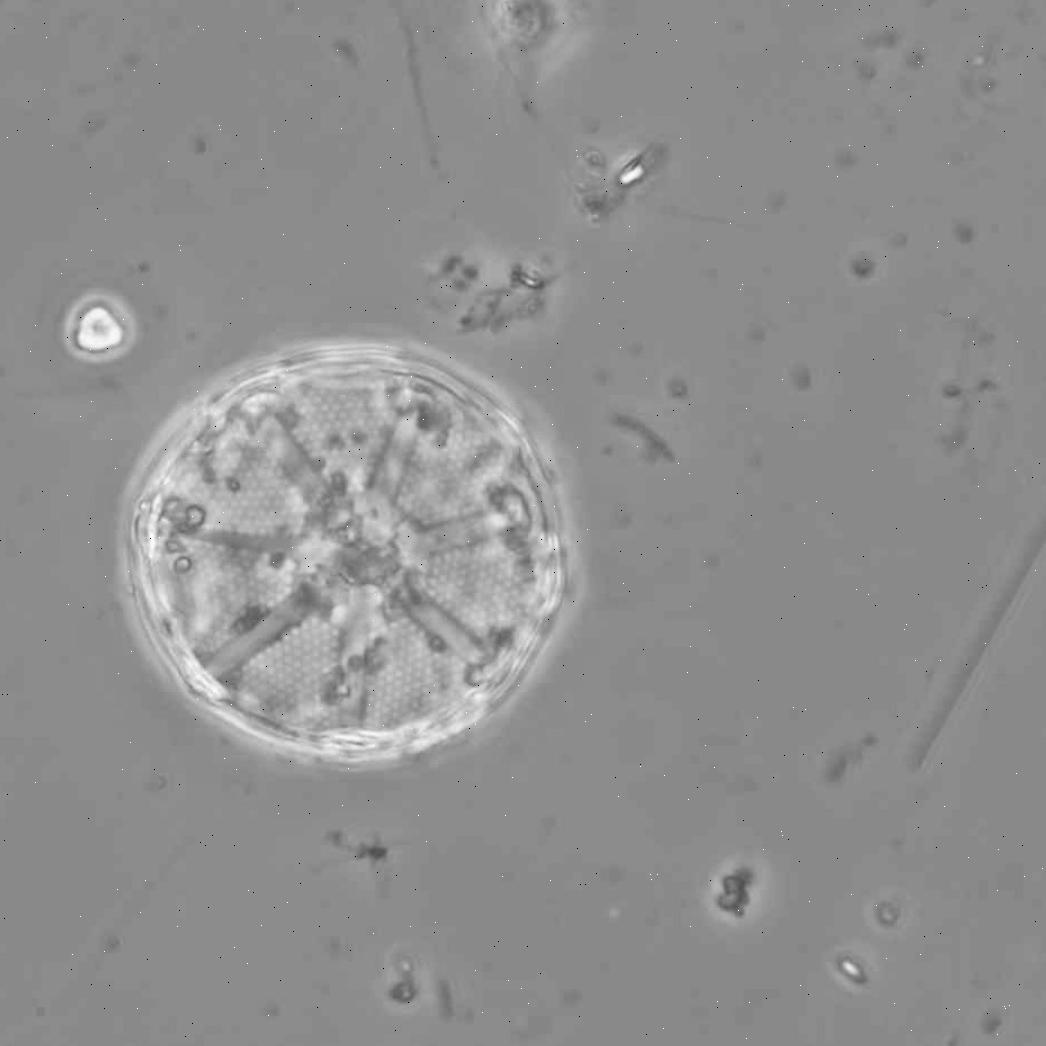asteromphalus_hyalinus: (133, 368, 556, 756)
